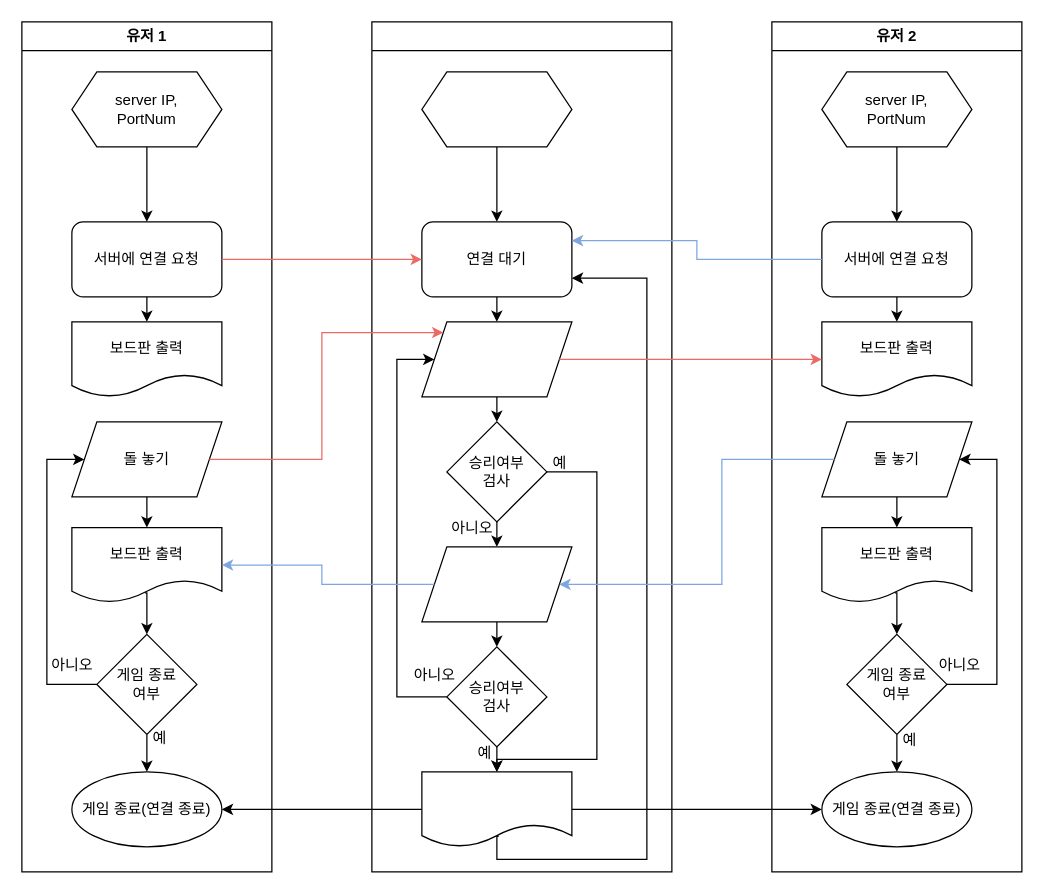
The diagram is 1044 pixels wide and 894 high, and some of its shapes have lost their labels. The box of each missing label's shape, as (x1, y1, x2, y2) in pixels:
clnt_sock1, clnt_sock2: (421, 71, 572, 147)
게임 결과 출력: (421, 771, 572, 847)
서버: (371, 21, 672, 872)
유저 2 입력: (421, 546, 572, 622)
유저1 입력: (421, 321, 572, 397)
